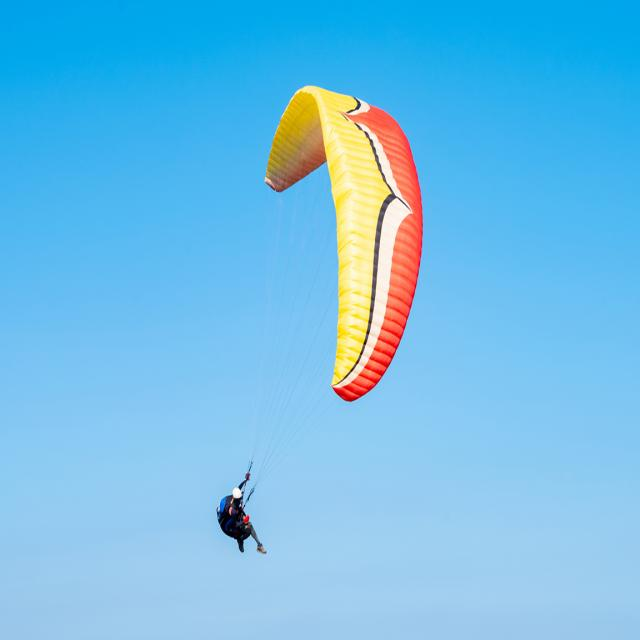paraglider: (263, 82, 424, 404)
